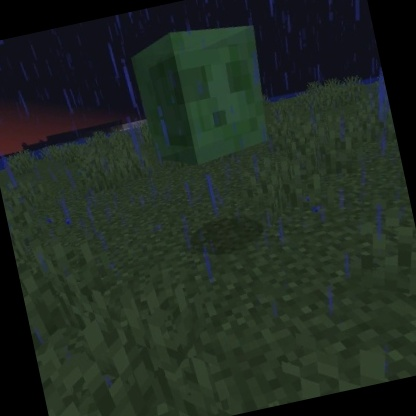slime: (122, 9, 287, 181)
